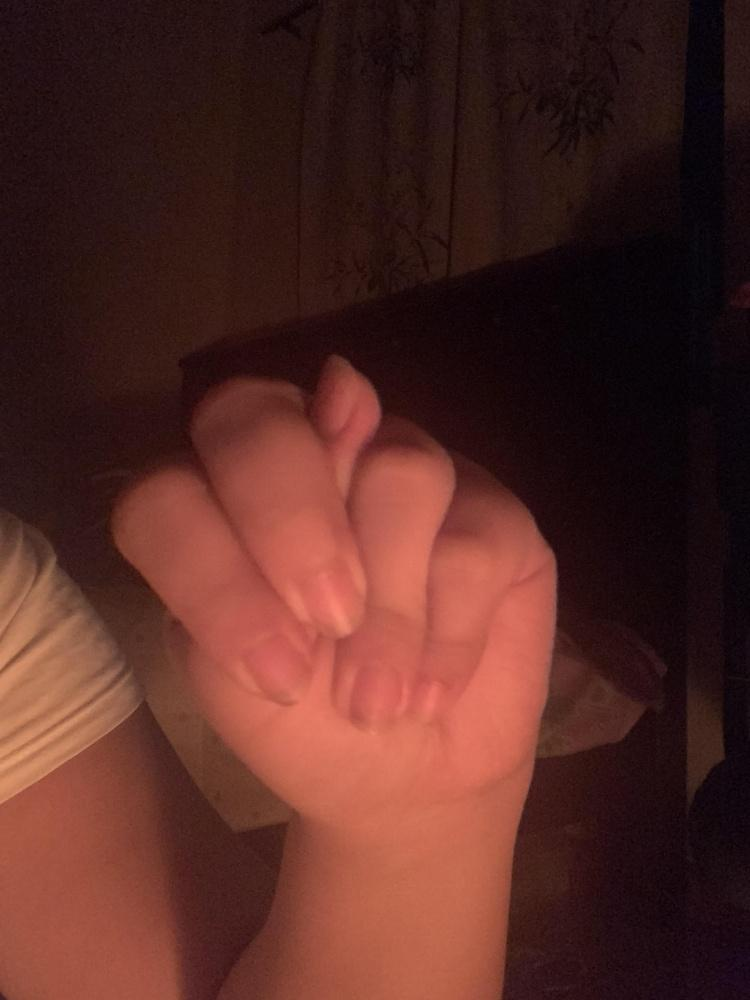n: (112, 350, 559, 813)
